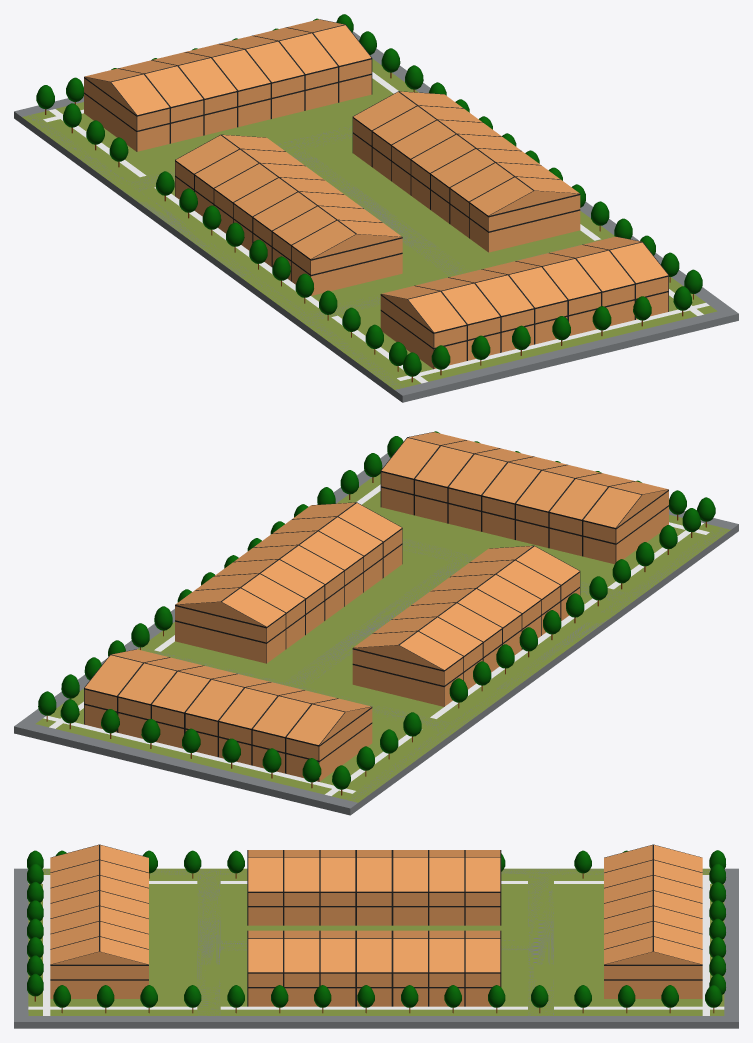
The model's file is 225_townhomes_A.dae.
The picture shows the model from 3 angles, top to bottom: view 1: azimuth 30°, elevation 25°; view 2: azimuth 150°, elevation 25°; view 3: azimuth 270°, elevation 25°; orthographic projection. The views are drawn at different scales.
Visible parts, largest first — view 1: Component_2 (×49), group_4 (×13); view 2: Component_2 (×49), group_4 (×13); view 3: Component_2 (×94), group_4 (×13), Tree_z_Icon_5 (×20).
Part boxes in pixels (bbox=[...]): Component_2 (×49): bbox=[84, 25, 667, 368]; group_4 (×13): bbox=[14, 31, 738, 402]; Component_2 (×49): bbox=[85, 438, 668, 781]; group_4 (×13): bbox=[14, 453, 738, 815]; Component_2 (×94): bbox=[50, 845, 702, 1006]; group_4 (×13): bbox=[14, 868, 738, 1028]; Tree_z_Icon_5 (×20): bbox=[27, 850, 722, 1007].
Bounding box in the file's own units: 48.75 × 97.5 × 8.
